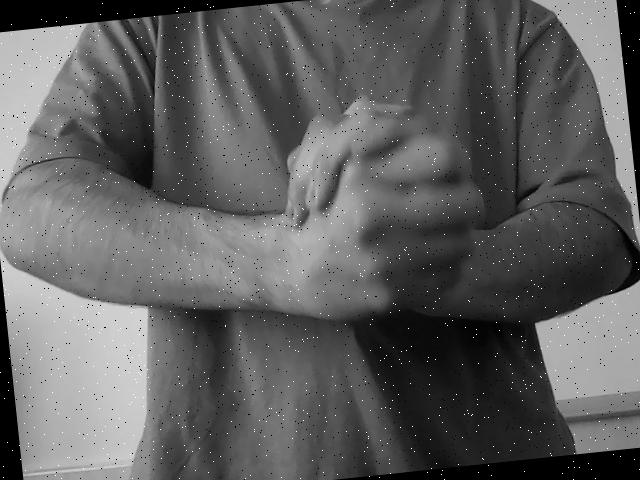friend: (261, 101, 486, 332)
